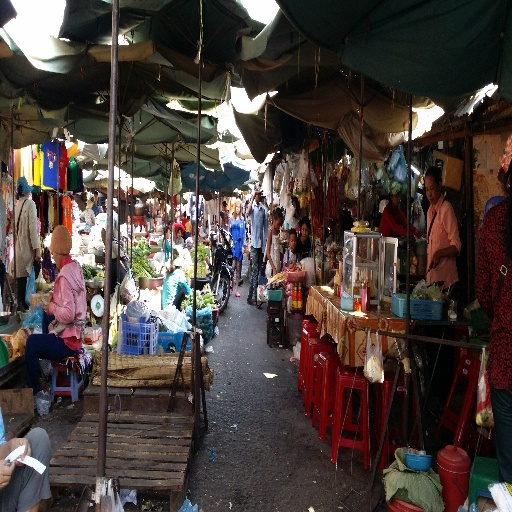hand: (7, 437, 32, 469), (0, 457, 15, 493), (428, 252, 440, 271), (42, 302, 50, 316), (35, 253, 42, 265), (47, 294, 53, 302), (272, 270, 277, 276)
